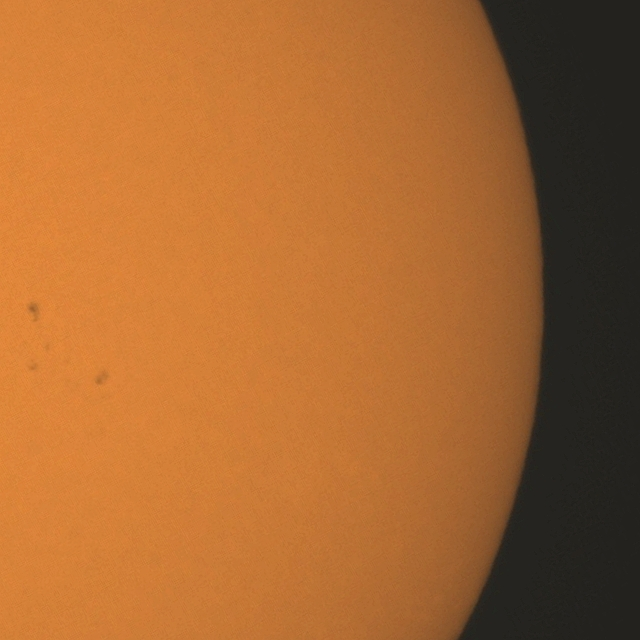sunspot: (26, 301, 40, 324), (94, 369, 110, 389)
